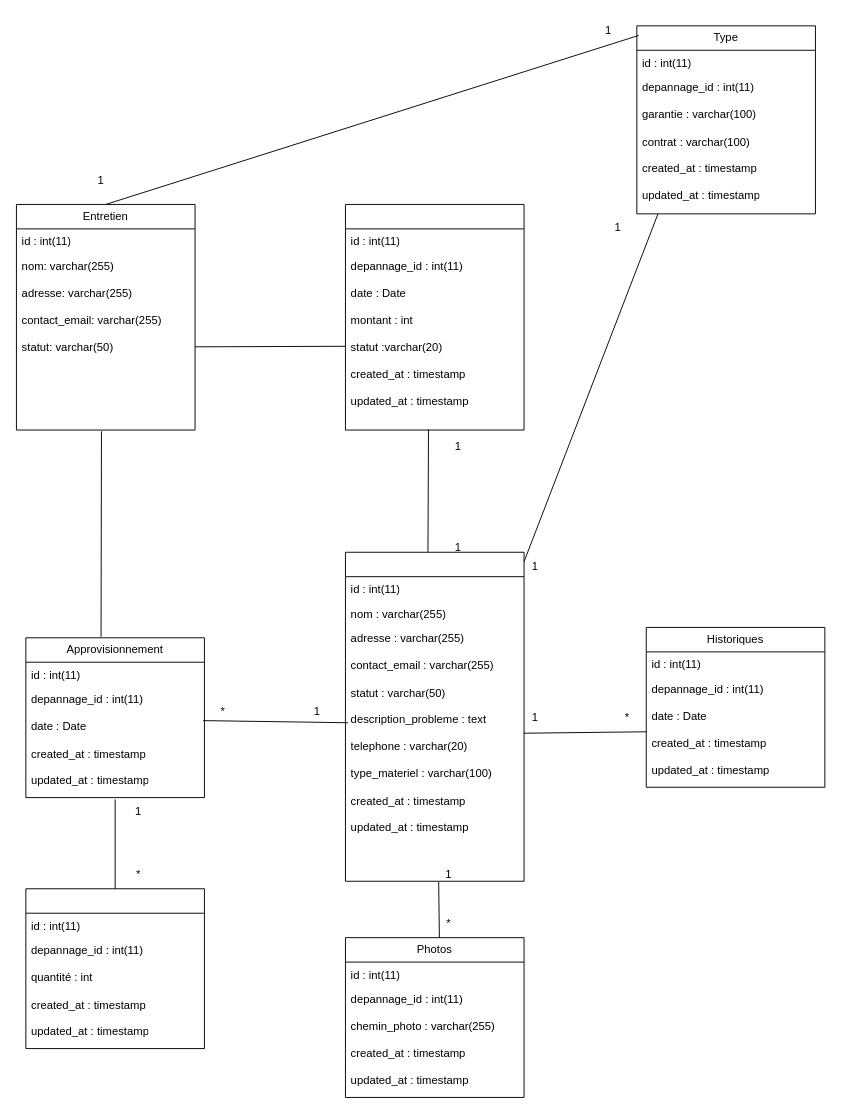
Image size: 841x1116. Some labels were removed from this diagram. The box of each missing label's shape, as (x1, y1, x2, y2) in pixels:
Depannage: (345, 551, 524, 881)
Facturation: (345, 204, 524, 430)
Pièces: (25, 888, 204, 1049)
